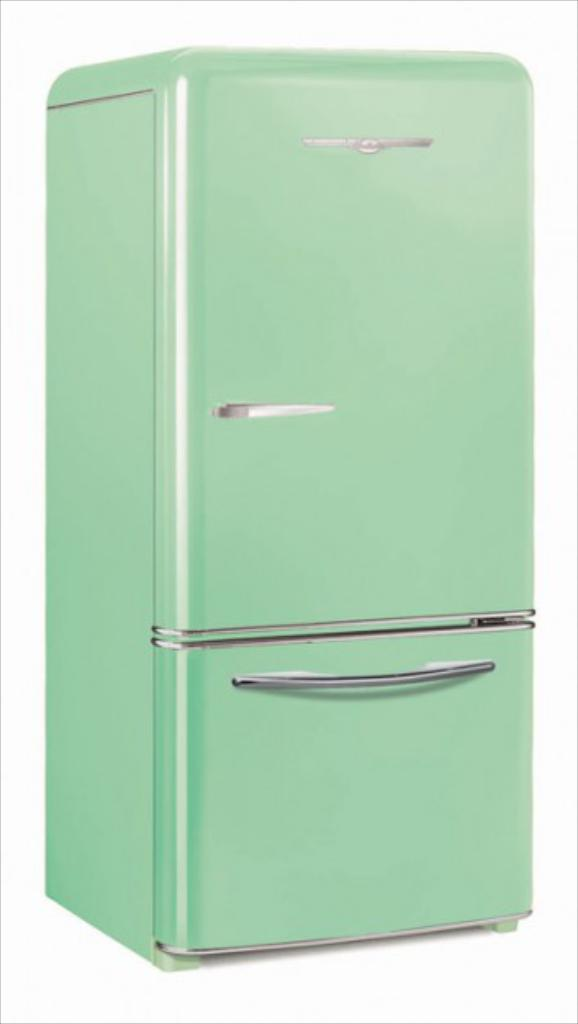handle: (234, 668, 493, 717)
refrigerator door: (172, 84, 532, 607), (153, 631, 530, 906)
